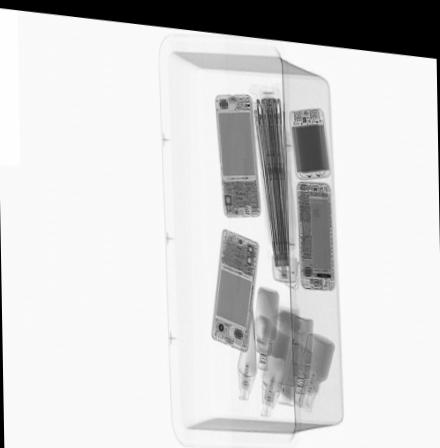Powerbank: (286, 96, 331, 174)
